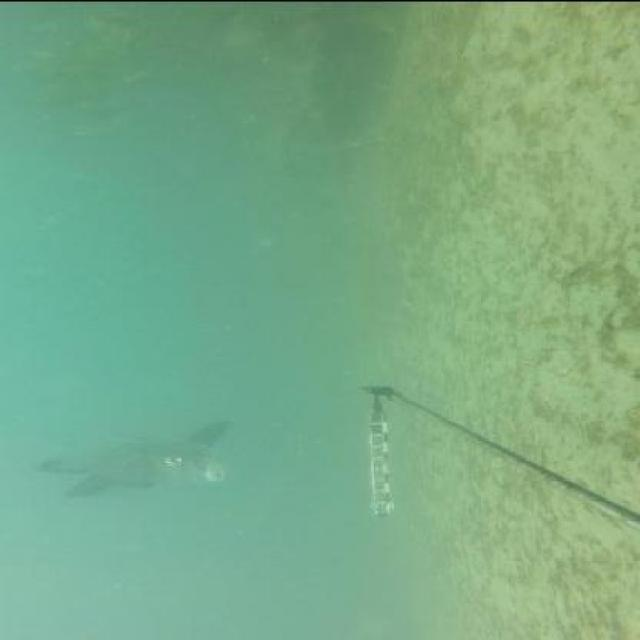acanthopagrus_palmaris: (33, 414, 241, 498)
